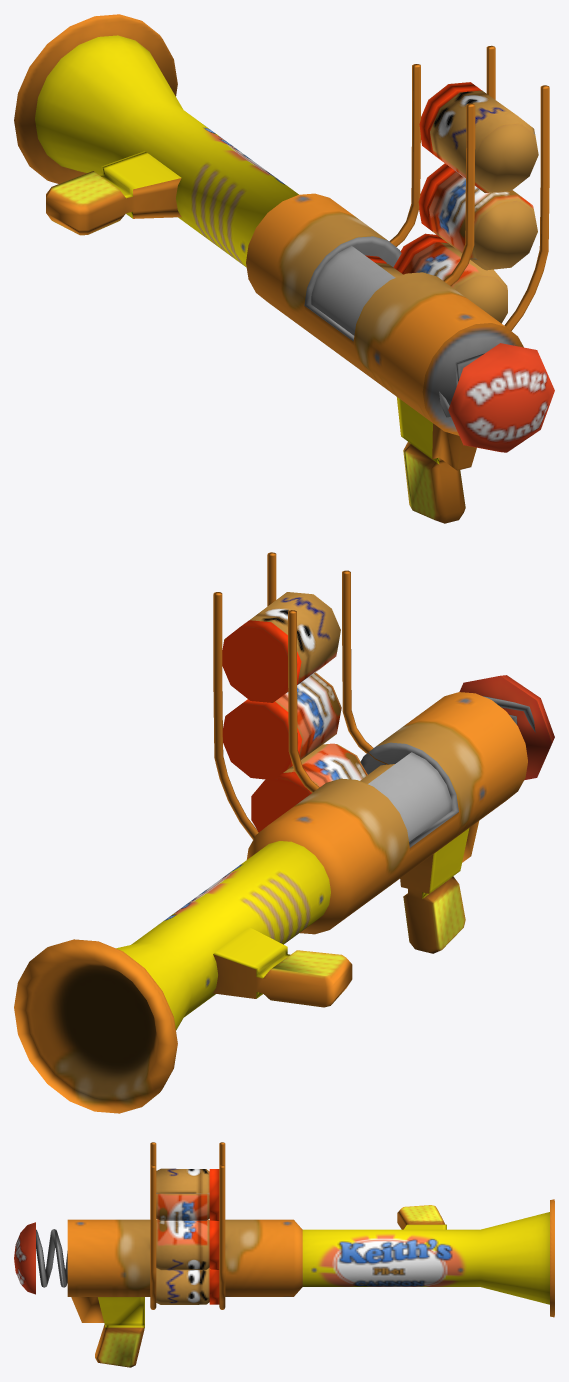
File: pblauncher_3jars.obj
3 views of the same model, one above another, from view 1: azimuth 30°, elevation 25°; view 2: azimuth 150°, elevation 25°; view 3: azimuth 270°, elevation 25° (orthographic). The views are drawn at different scales.
Parts seen in each view (by area): view 1: pblauncher_3jars; view 2: pblauncher_3jars; view 3: pblauncher_3jars.
Part boxes in pixels (x1,y1,x2,y2): pblauncher_3jars: (14,14,554,523); pblauncher_3jars: (14,552,554,1113); pblauncher_3jars: (14,1142,554,1367).
Bounding box in the file's own units: 3.02 × 3.83 × 7.78.
Materials: 1 (1 with a texture image).
